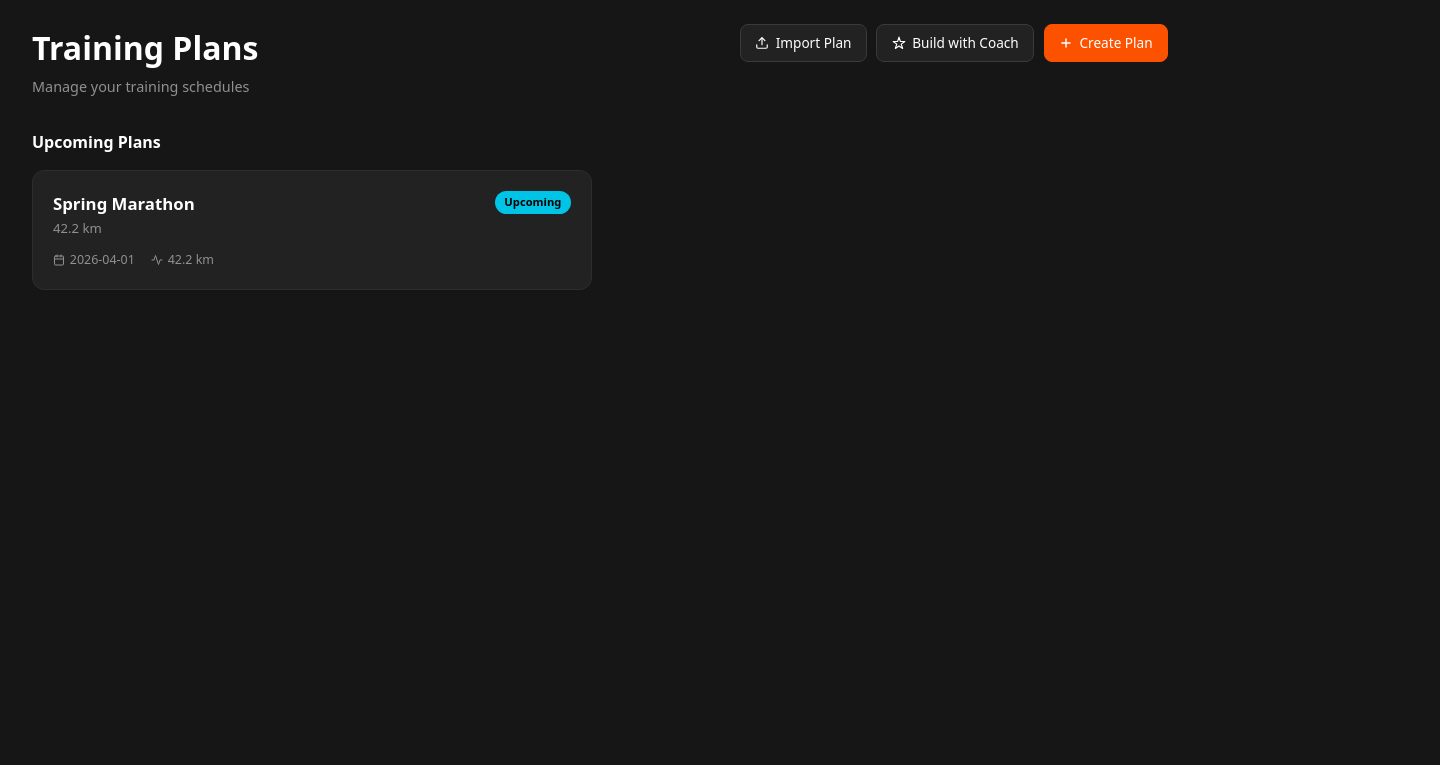
Test: PlanningPage › shows run distance and pace in the weekly schedule
Expected: the heading "Spring Marathon" is shown, [53,191,195,216]
Step 1. Click the button "Spring Marathon 42.2 km Upcoming 2026-04-01 42.2 km" → (124, 203), box [32,170,592,290]
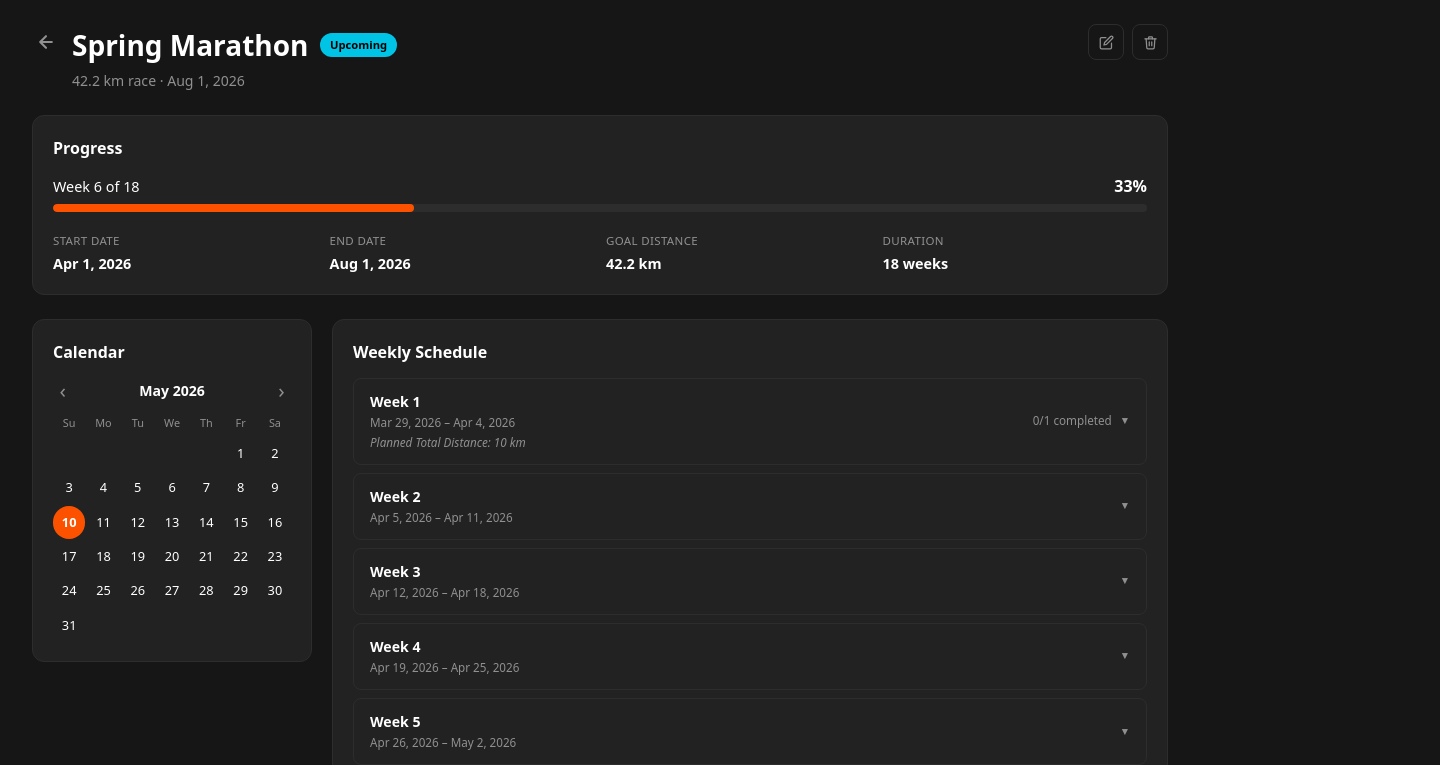
Note: Expand the first week accordion (use getAllByRole and take the first)
Step 2. Click the button "Week 1" → (391, 401), box [354,379,1146,464]
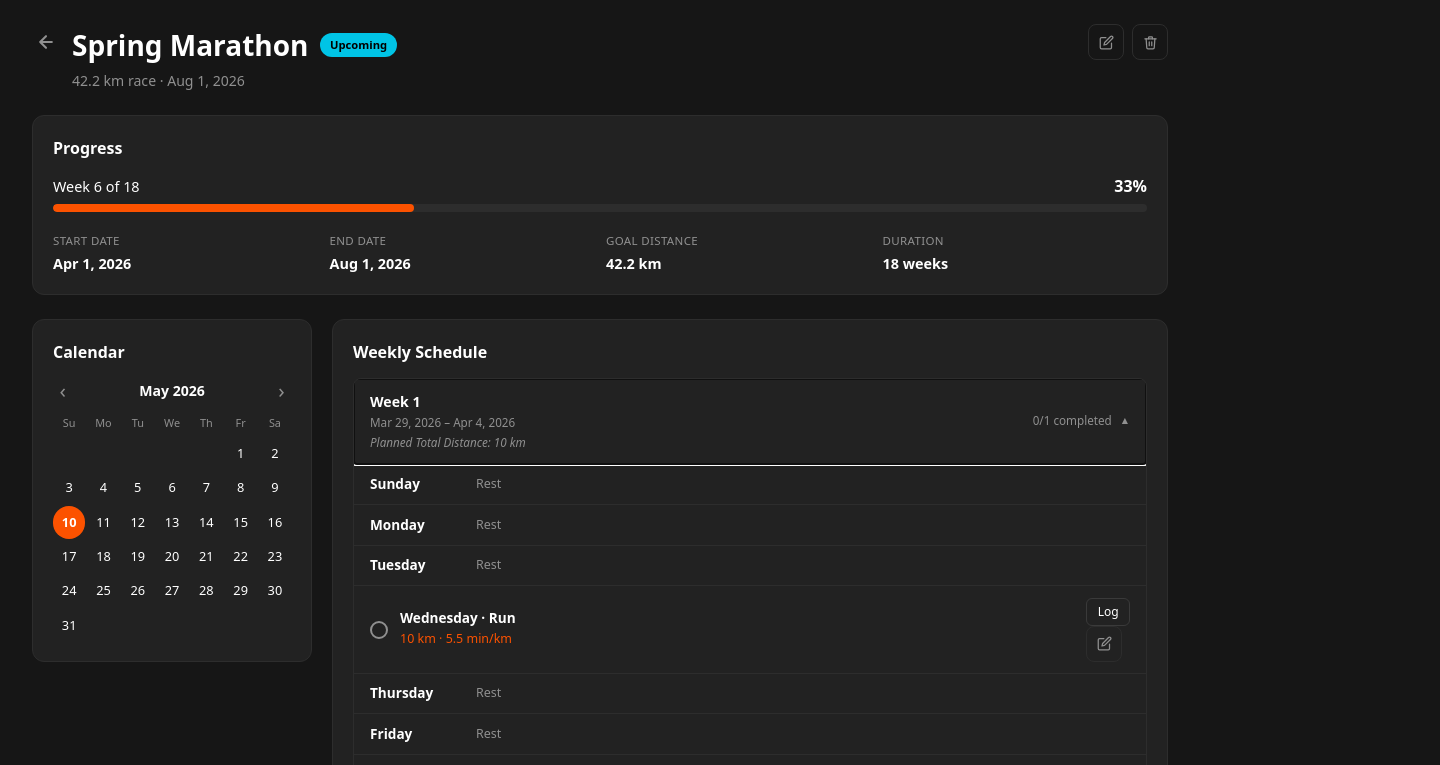
Now the text "10 km · 5.5 min/km" is shown, box [400,630,512,648]
